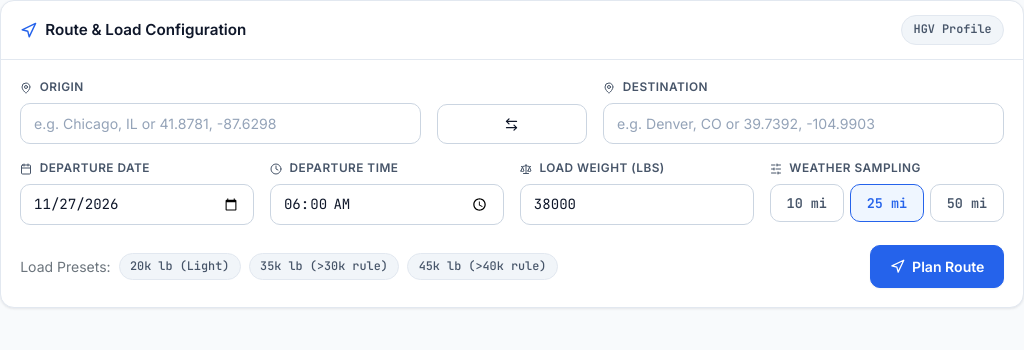
Scenario: PlannerForm validation and submission › shows validation error when origin and destination are identical
Type "Chicago, IL" into the field labelled "Origin". click: (220, 124)
box: [20,103,421,144]
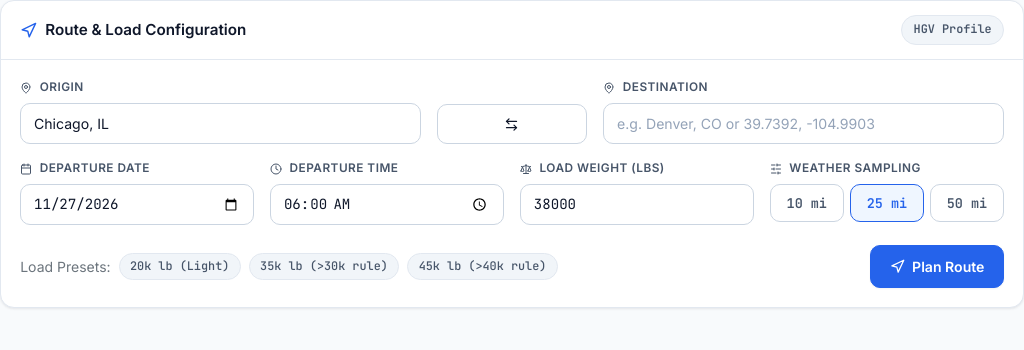
Type "chicago, il" into the field labelled "Destination". click: (804, 124)
box: [603,103,1004,144]
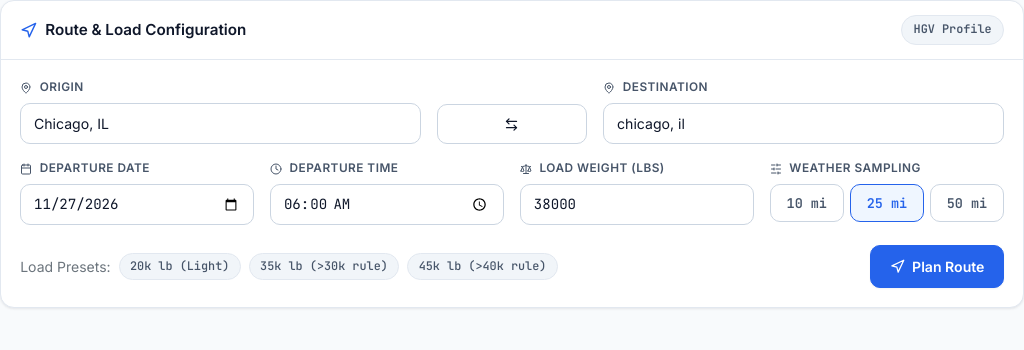
Click the button "Plan Route". click: (937, 266)
box: [870,245,1004,288]
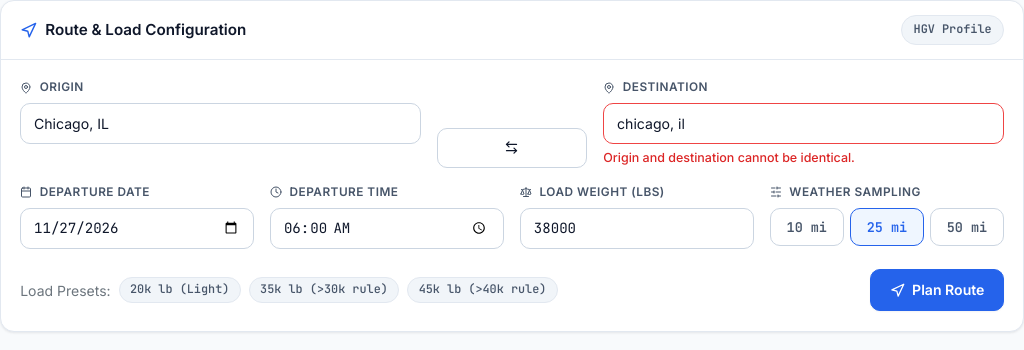
Result: the text "Origin and destination cannot be identical." is shown at [603,150,855,165]
